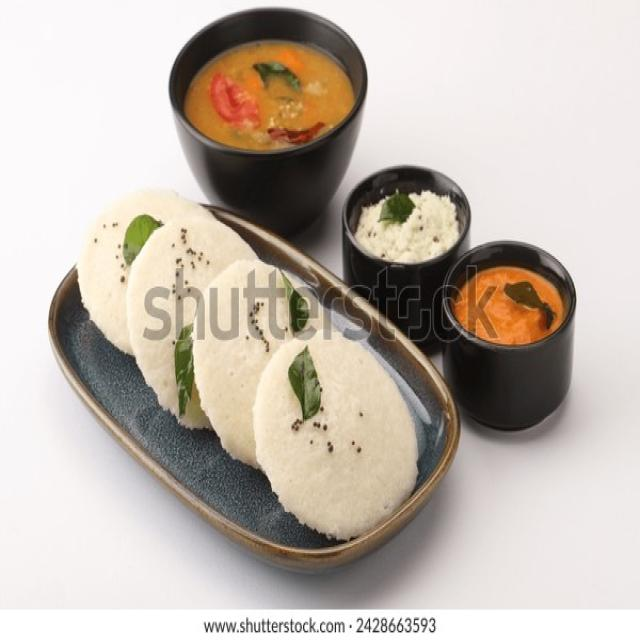IDLI: (77, 190, 453, 538), (253, 334, 417, 538)
